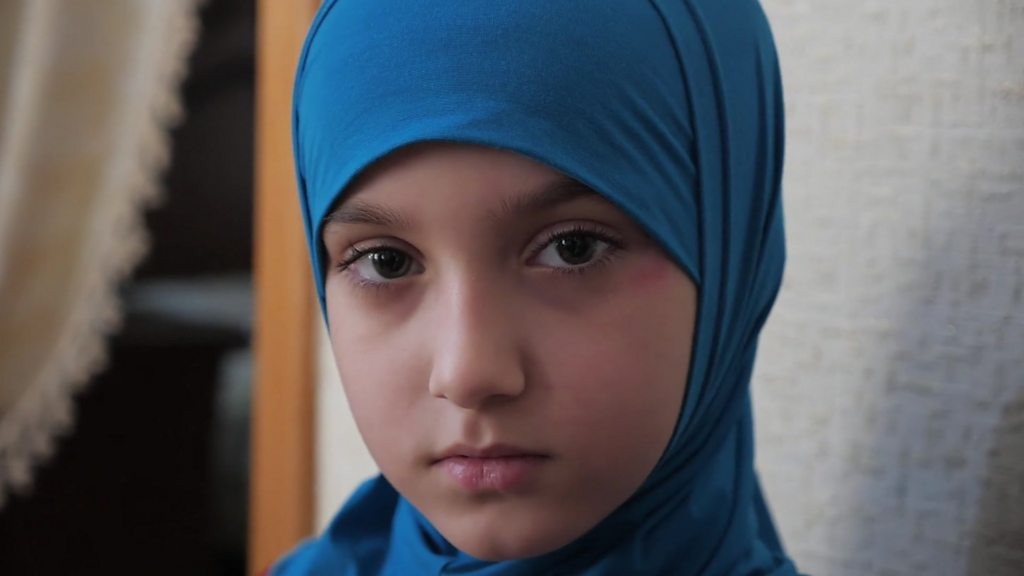without_mask: (322, 110, 707, 564)
